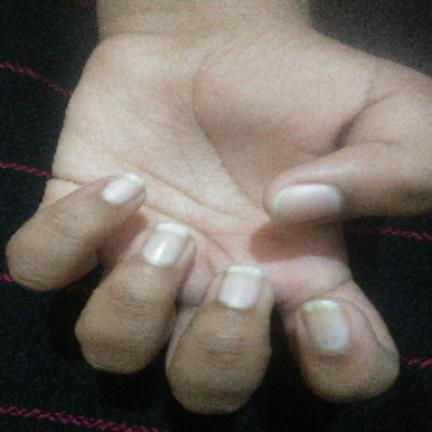Nail: (271, 184, 343, 225), (301, 300, 350, 355), (142, 222, 189, 266), (218, 267, 264, 309), (102, 173, 144, 204)
